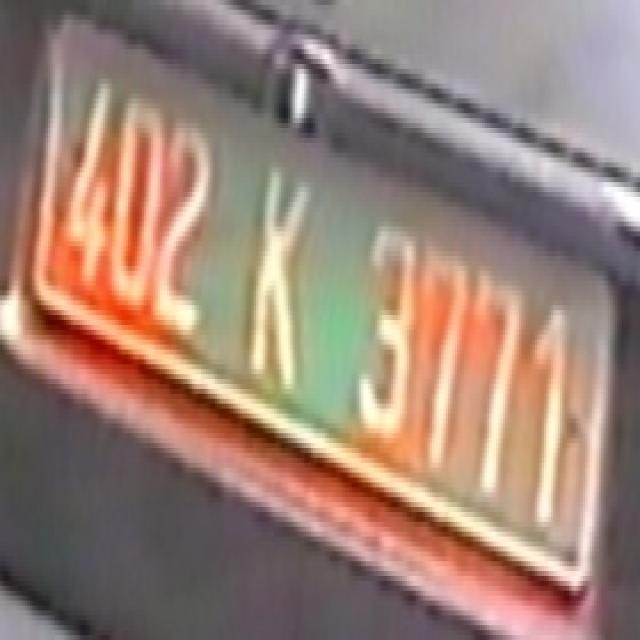licenseplate: (17, 0, 623, 623)
